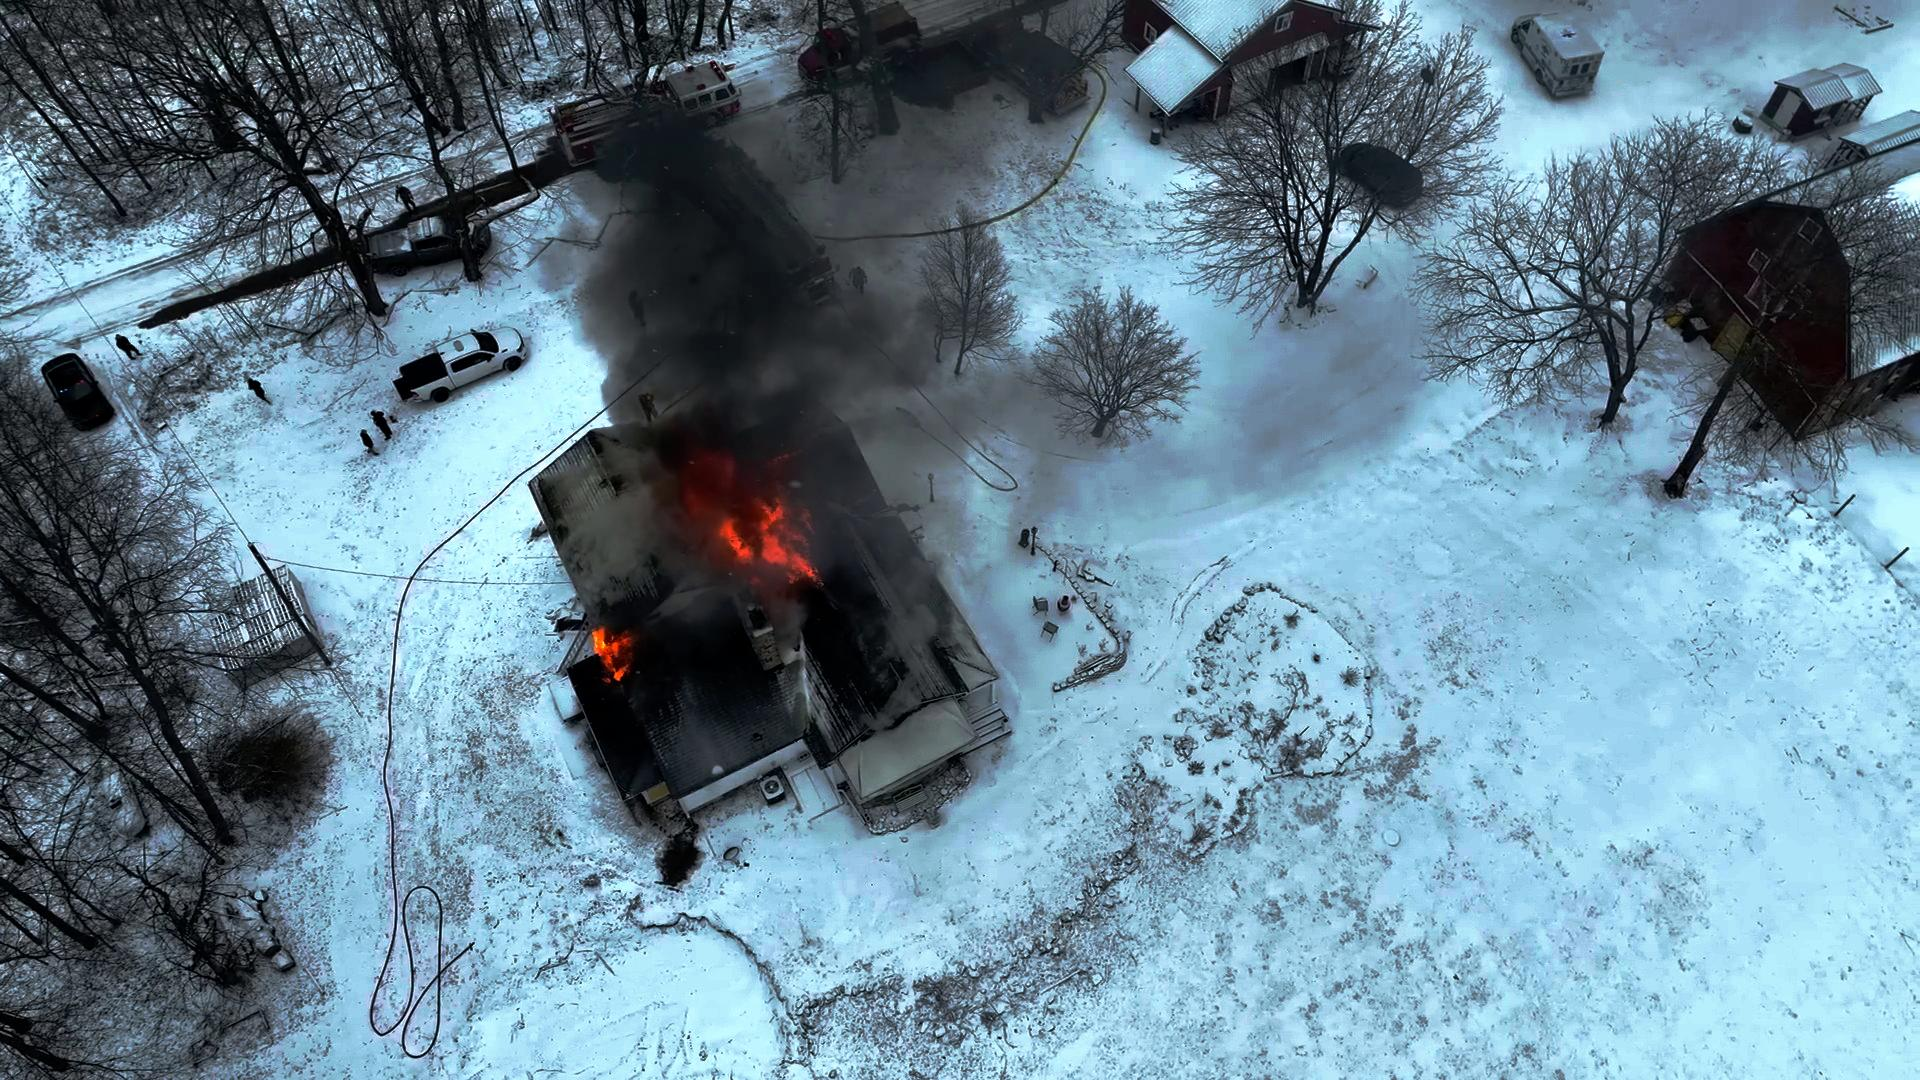fire: (673, 460, 815, 583), (591, 611, 644, 673)
